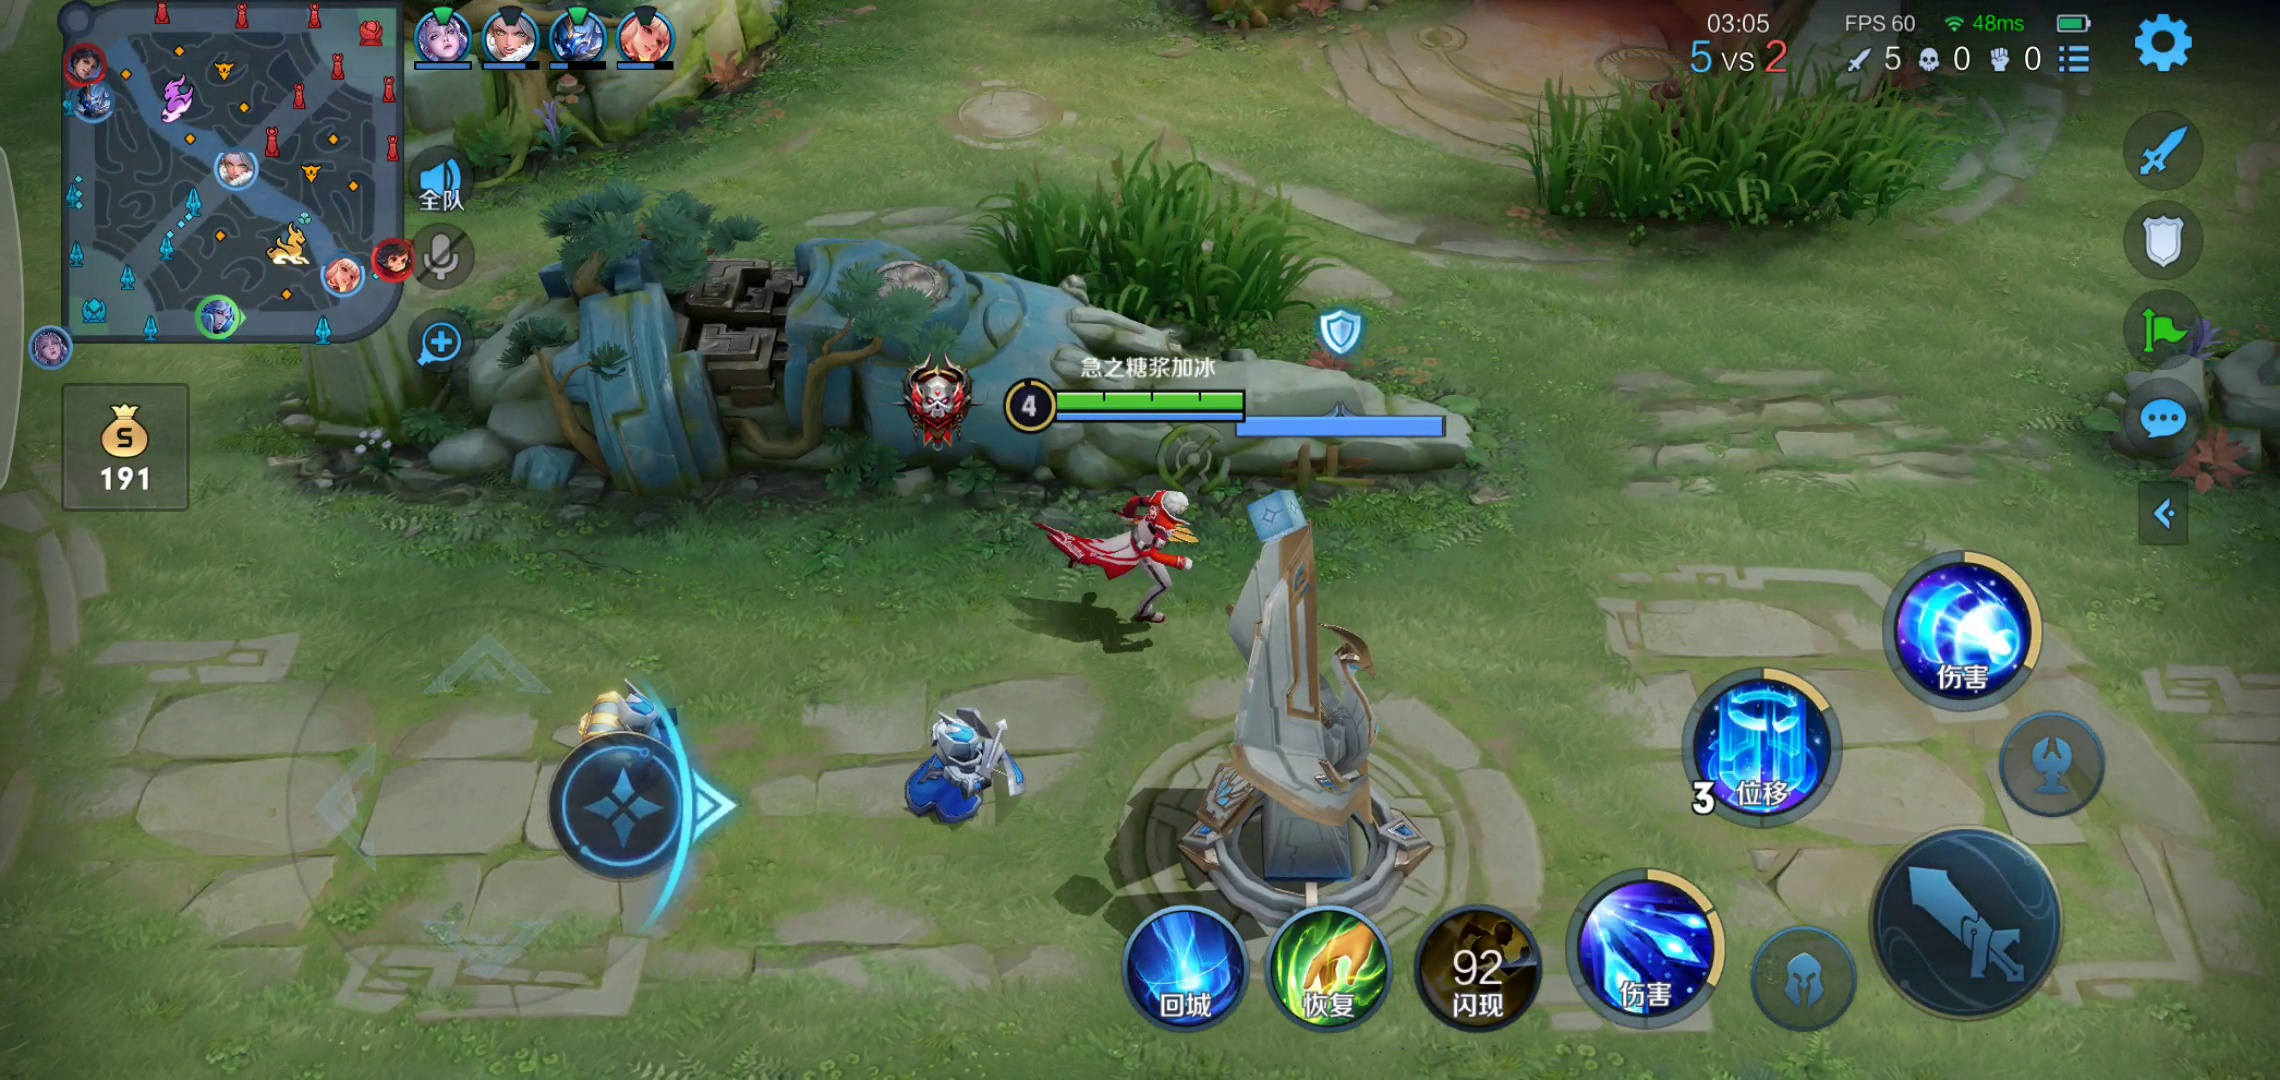grass: (1515, 63, 1950, 230), (986, 151, 1304, 343)
hero: (1040, 467, 1205, 638)
soldier: (891, 698, 1027, 833), (561, 682, 728, 789)
tower: (1187, 494, 1424, 940)
